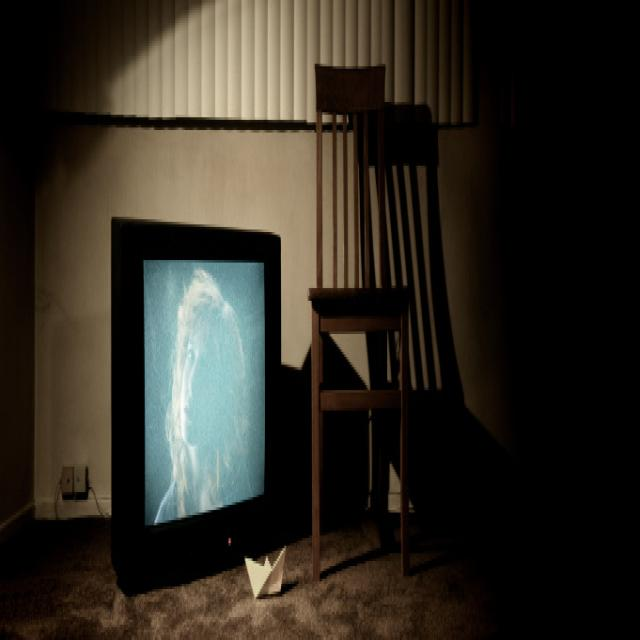chair: (299, 33, 418, 584)
